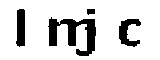c: (114, 15, 143, 49)
j: (78, 5, 106, 60)
l: (10, 6, 32, 49)
m: (42, 17, 91, 46)
